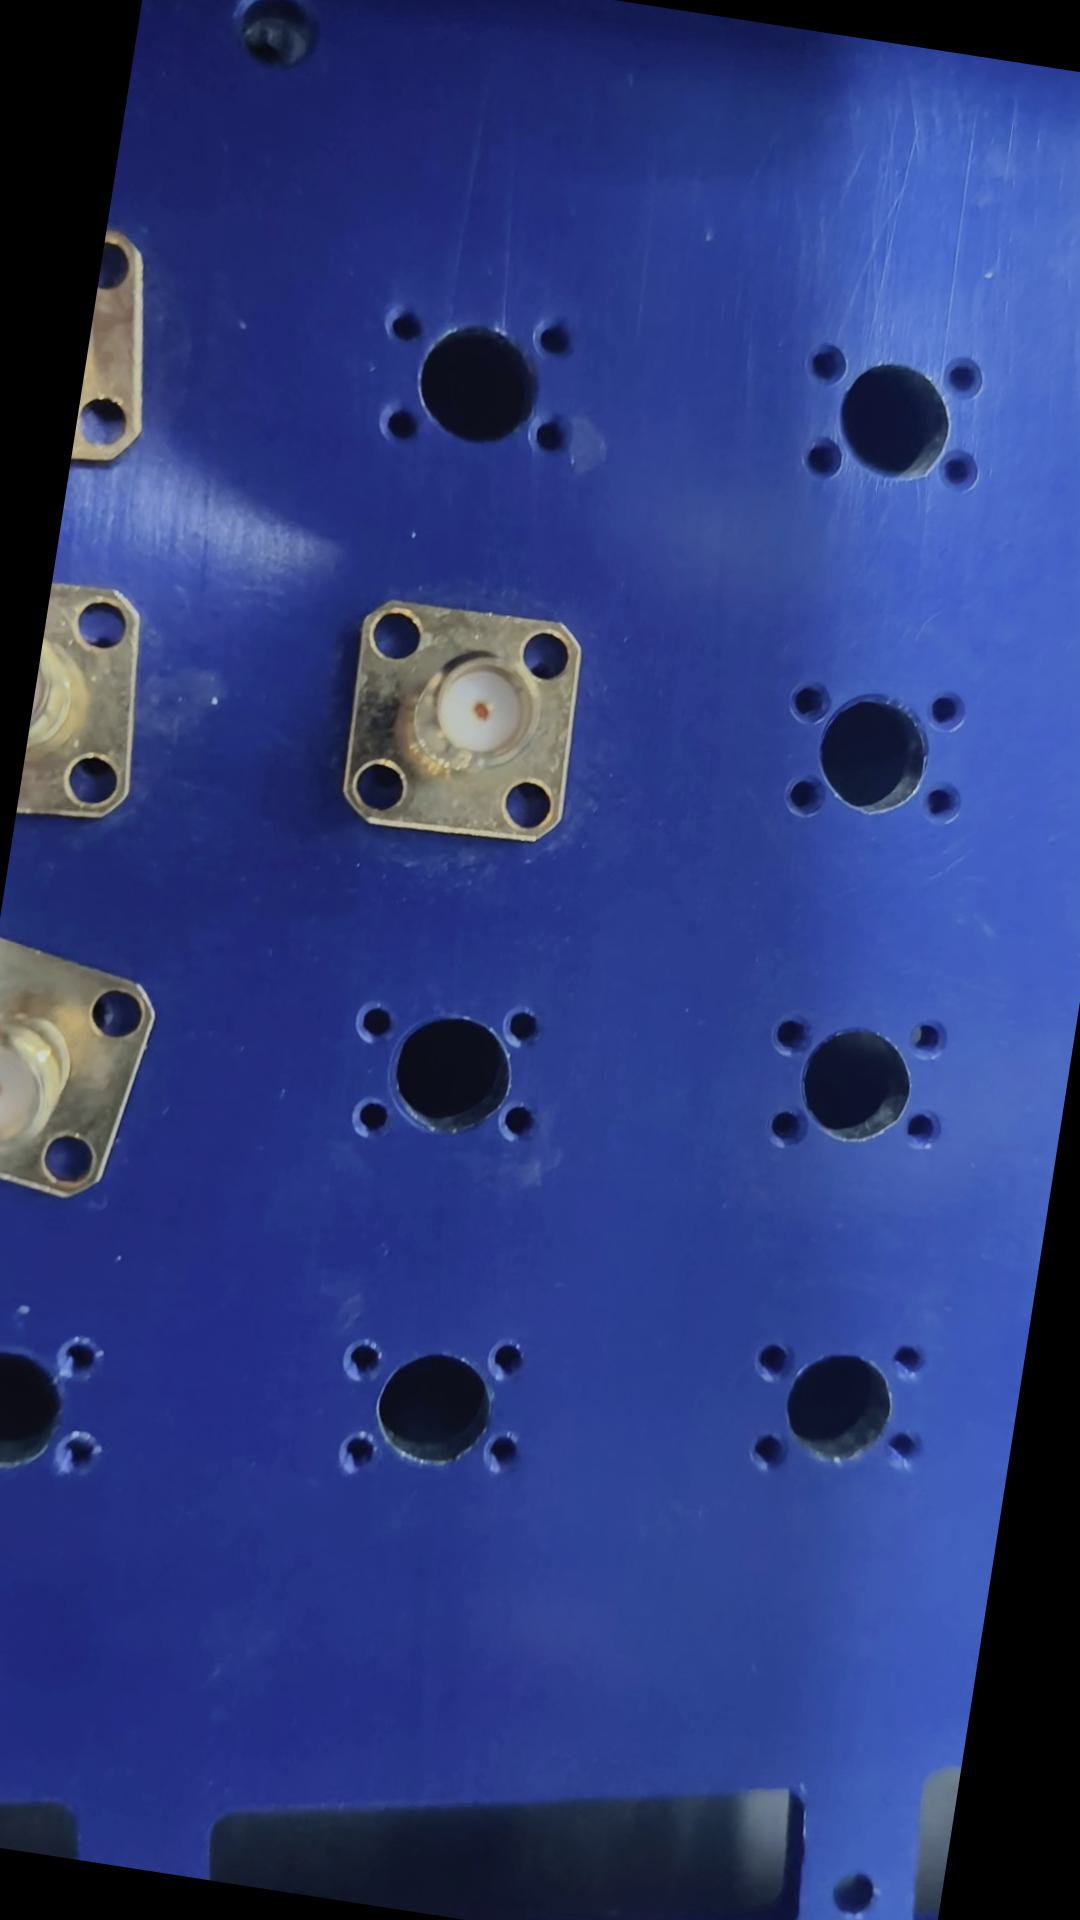SMA: (324, 593, 597, 856)
